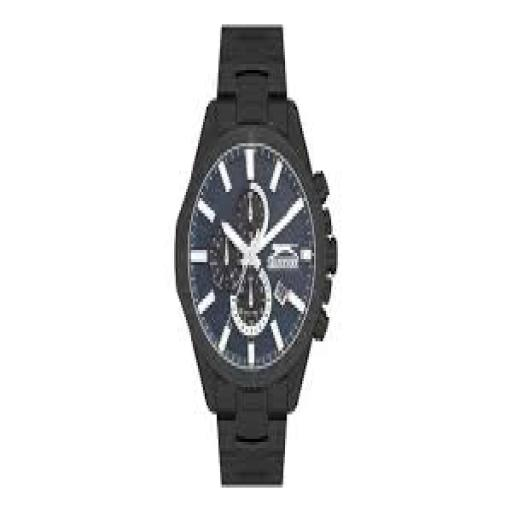KolSaati: (172, 13, 340, 501)
